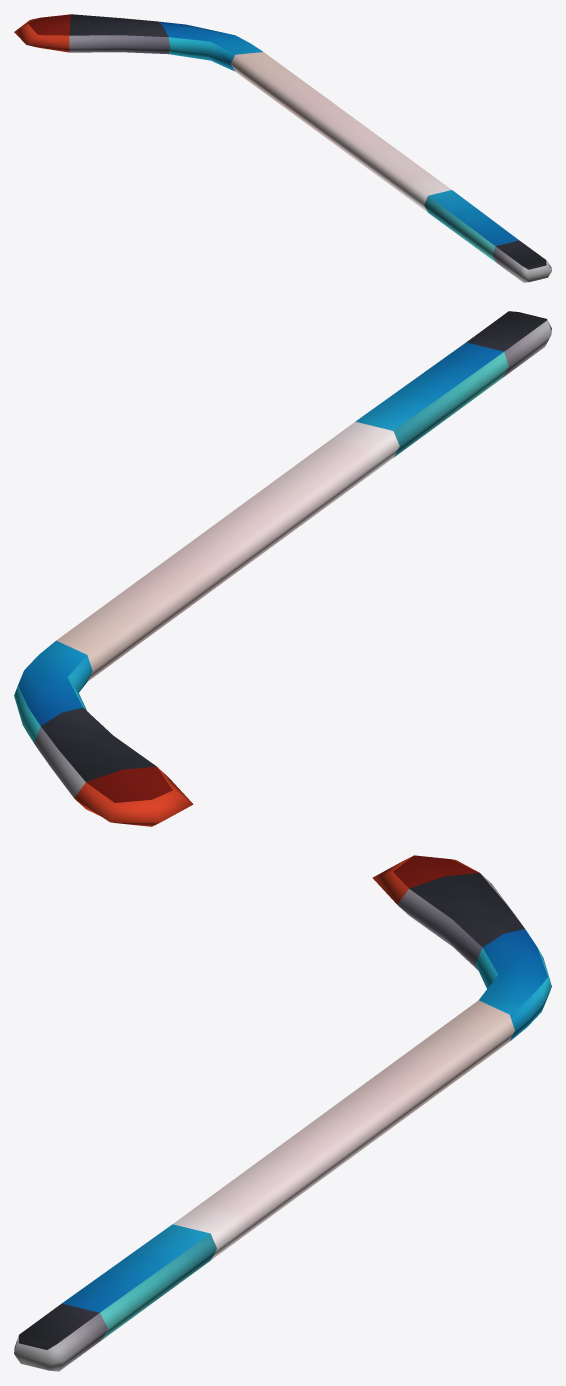
File: sword-baseball.fbx
The picture shows the model from 3 angles, top to bottom: view 1: azimuth 30°, elevation 25°; view 2: azimuth 150°, elevation 25°; view 3: azimuth 330°, elevation 25°; orthographic projection. The views are drawn at different scales.
Visible parts, largest first — view 1: sword3h07; view 2: sword3h07; view 3: sword3h07.
Part boxes in pixels (x1,y1,x2,y2): sword3h07: (14, 14, 551, 282); sword3h07: (14, 311, 551, 826); sword3h07: (14, 855, 551, 1371).
Size of the model in its own units: 18.62 by 2.43 by 75.43.
